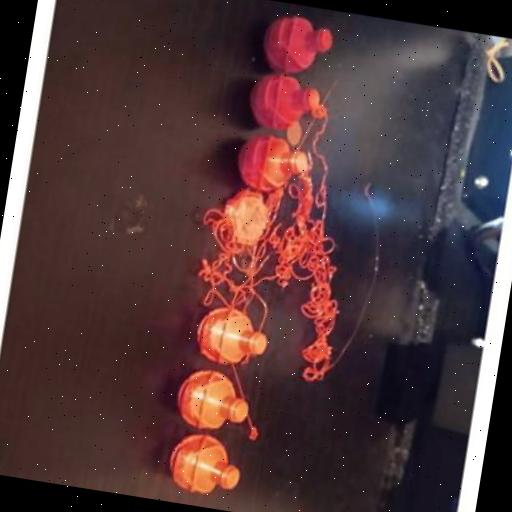spaghetti: (265, 102, 374, 382), (188, 172, 296, 318), (241, 412, 261, 443), (256, 314, 270, 336), (237, 350, 254, 368)
